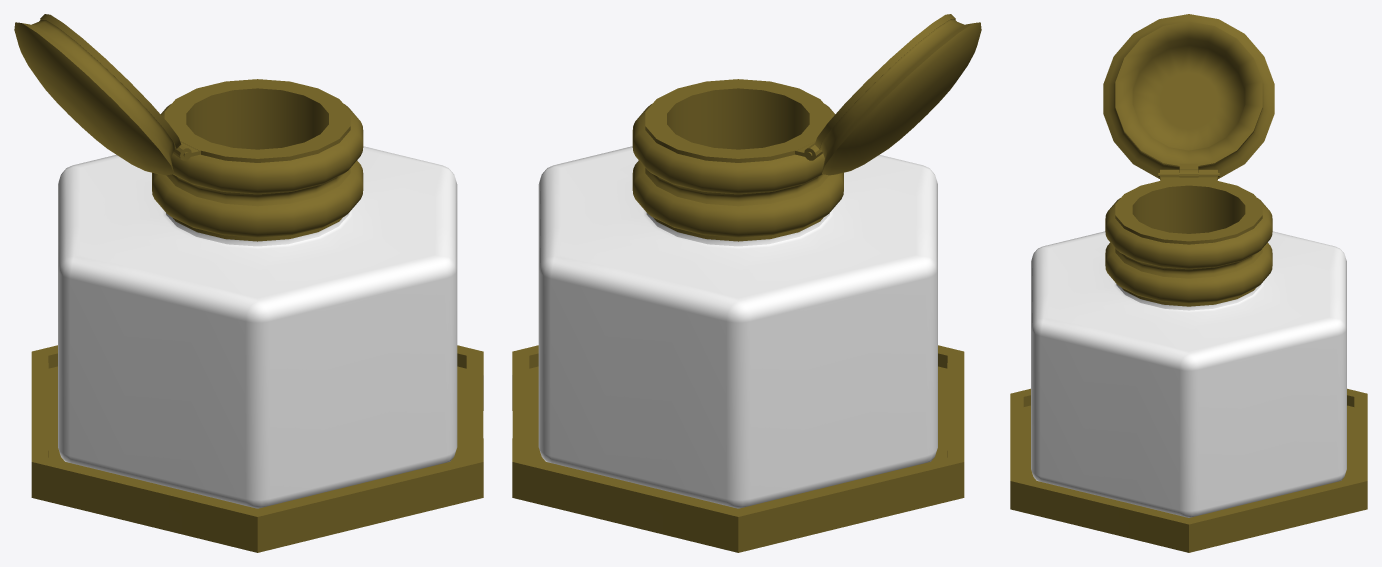
File: Inkwell_Final.fbx
3 views of the same model, side by side, from view 1: azimuth 30°, elevation 25°; view 2: azimuth 150°, elevation 25°; view 3: azimuth 270°, elevation 25° (orthographic). The views are drawn at different scales.
Visible parts, largest first — view 1: inkwell_body_beveledge, inkwell_collar, inkwell_standbase, inkwell_lid; view 2: inkwell_body_beveledge, inkwell_collar, inkwell_standbase, inkwell_lid; view 3: inkwell_body_beveledge, inkwell_lid, inkwell_collar, inkwell_standbase.
Boxes of the visible parts, x1,y1,x2,y2 form: inkwell_body_beveledge: (58, 146, 457, 508); inkwell_collar: (152, 79, 363, 241); inkwell_standbase: (31, 345, 483, 552); inkwell_lid: (14, 14, 181, 175); inkwell_body_beveledge: (538, 146, 937, 508); inkwell_collar: (632, 79, 843, 241); inkwell_standbase: (512, 345, 964, 552); inkwell_lid: (814, 14, 981, 175); inkwell_body_beveledge: (1031, 231, 1346, 517); inkwell_lid: (1103, 14, 1274, 178); inkwell_collar: (1105, 169, 1272, 306); inkwell_standbase: (1010, 388, 1367, 552).
Size of the model in its own units: 9.07 by 8.96 by 7.86.
